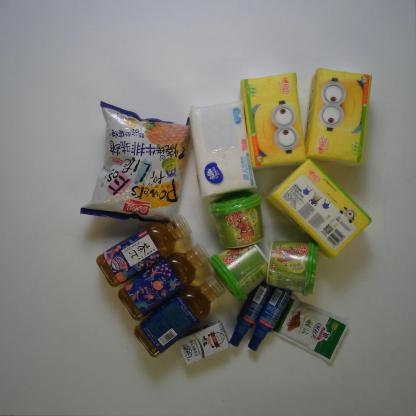Drink: (92, 210, 194, 292), (131, 273, 228, 359), (115, 240, 212, 324)
Instant Drink: (206, 240, 270, 305), (205, 186, 267, 251), (263, 236, 321, 300)
Milk: (176, 320, 232, 366)
Personal Hygiene: (226, 280, 276, 349), (245, 284, 294, 353)
Puffed Food: (75, 98, 192, 227)
Seasoner: (269, 293, 351, 366)
Tissue: (263, 155, 375, 262), (302, 63, 375, 170), (186, 97, 259, 200), (237, 69, 308, 174)
